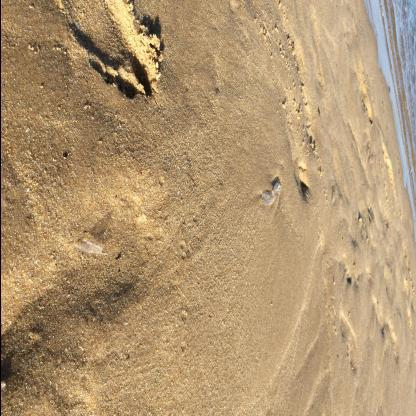plastik: (74, 241, 109, 257), (262, 183, 282, 206)
